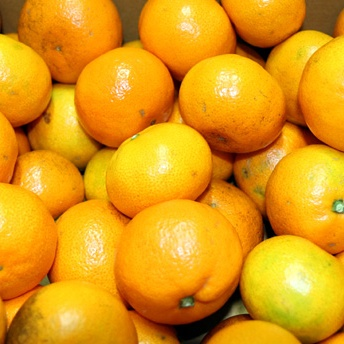mandarin: (115, 199, 244, 324), (239, 234, 344, 341), (178, 54, 284, 152), (73, 48, 175, 147), (105, 123, 211, 217), (48, 197, 128, 310), (264, 143, 344, 254), (19, 1, 122, 85), (6, 279, 137, 344), (137, 1, 239, 83), (237, 123, 309, 219), (1, 182, 56, 300), (25, 84, 100, 168), (299, 35, 344, 151), (1, 34, 53, 131), (11, 151, 86, 217), (268, 30, 317, 130), (222, 1, 306, 50), (207, 317, 296, 344)
